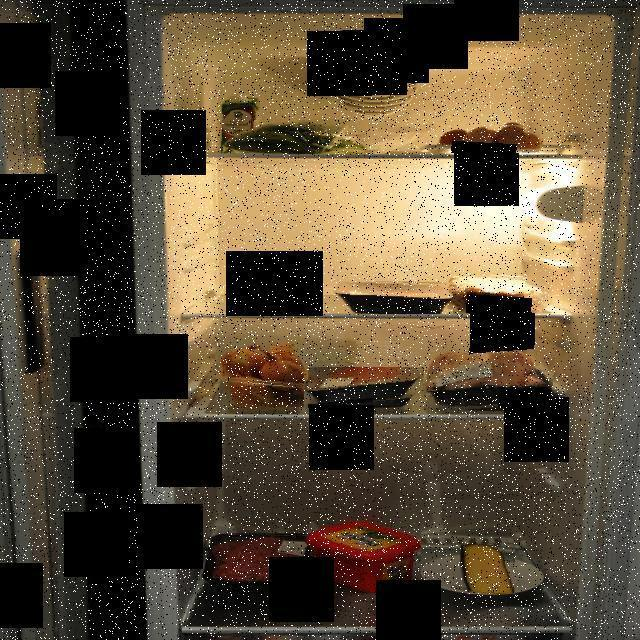beef: (304, 367, 424, 409)
bread: (450, 273, 546, 313)
butter: (306, 515, 422, 593)
cheese: (458, 540, 516, 594)
chicken: (426, 346, 557, 414)
chicken_breast: (336, 280, 454, 314)
egg: (437, 122, 543, 154)
green_beans: (222, 120, 380, 154)
ground_beef: (205, 533, 315, 595)
heavy_cream: (218, 93, 262, 155)
onion: (222, 342, 306, 408)
